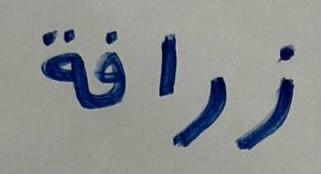alef: (149, 21, 182, 107)
feh: (92, 25, 143, 122)
reh: (183, 33, 233, 159)
teh_marbota: (29, 11, 90, 132)
zain: (234, 25, 309, 160)
